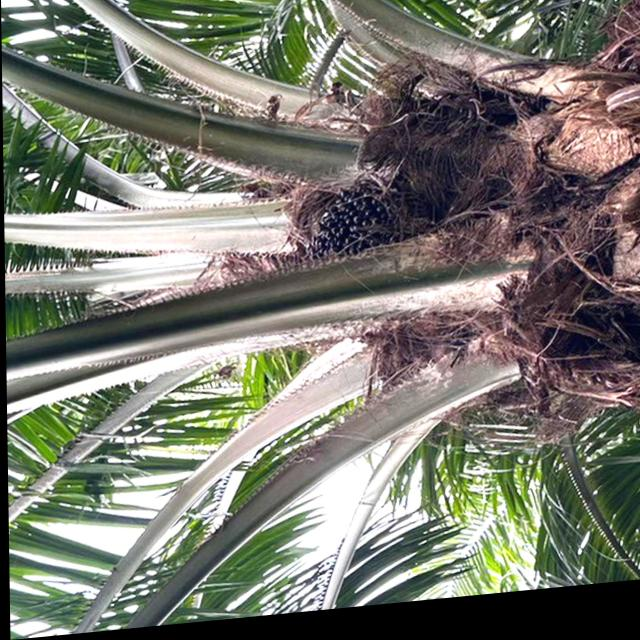unripe: (290, 176, 426, 304)
